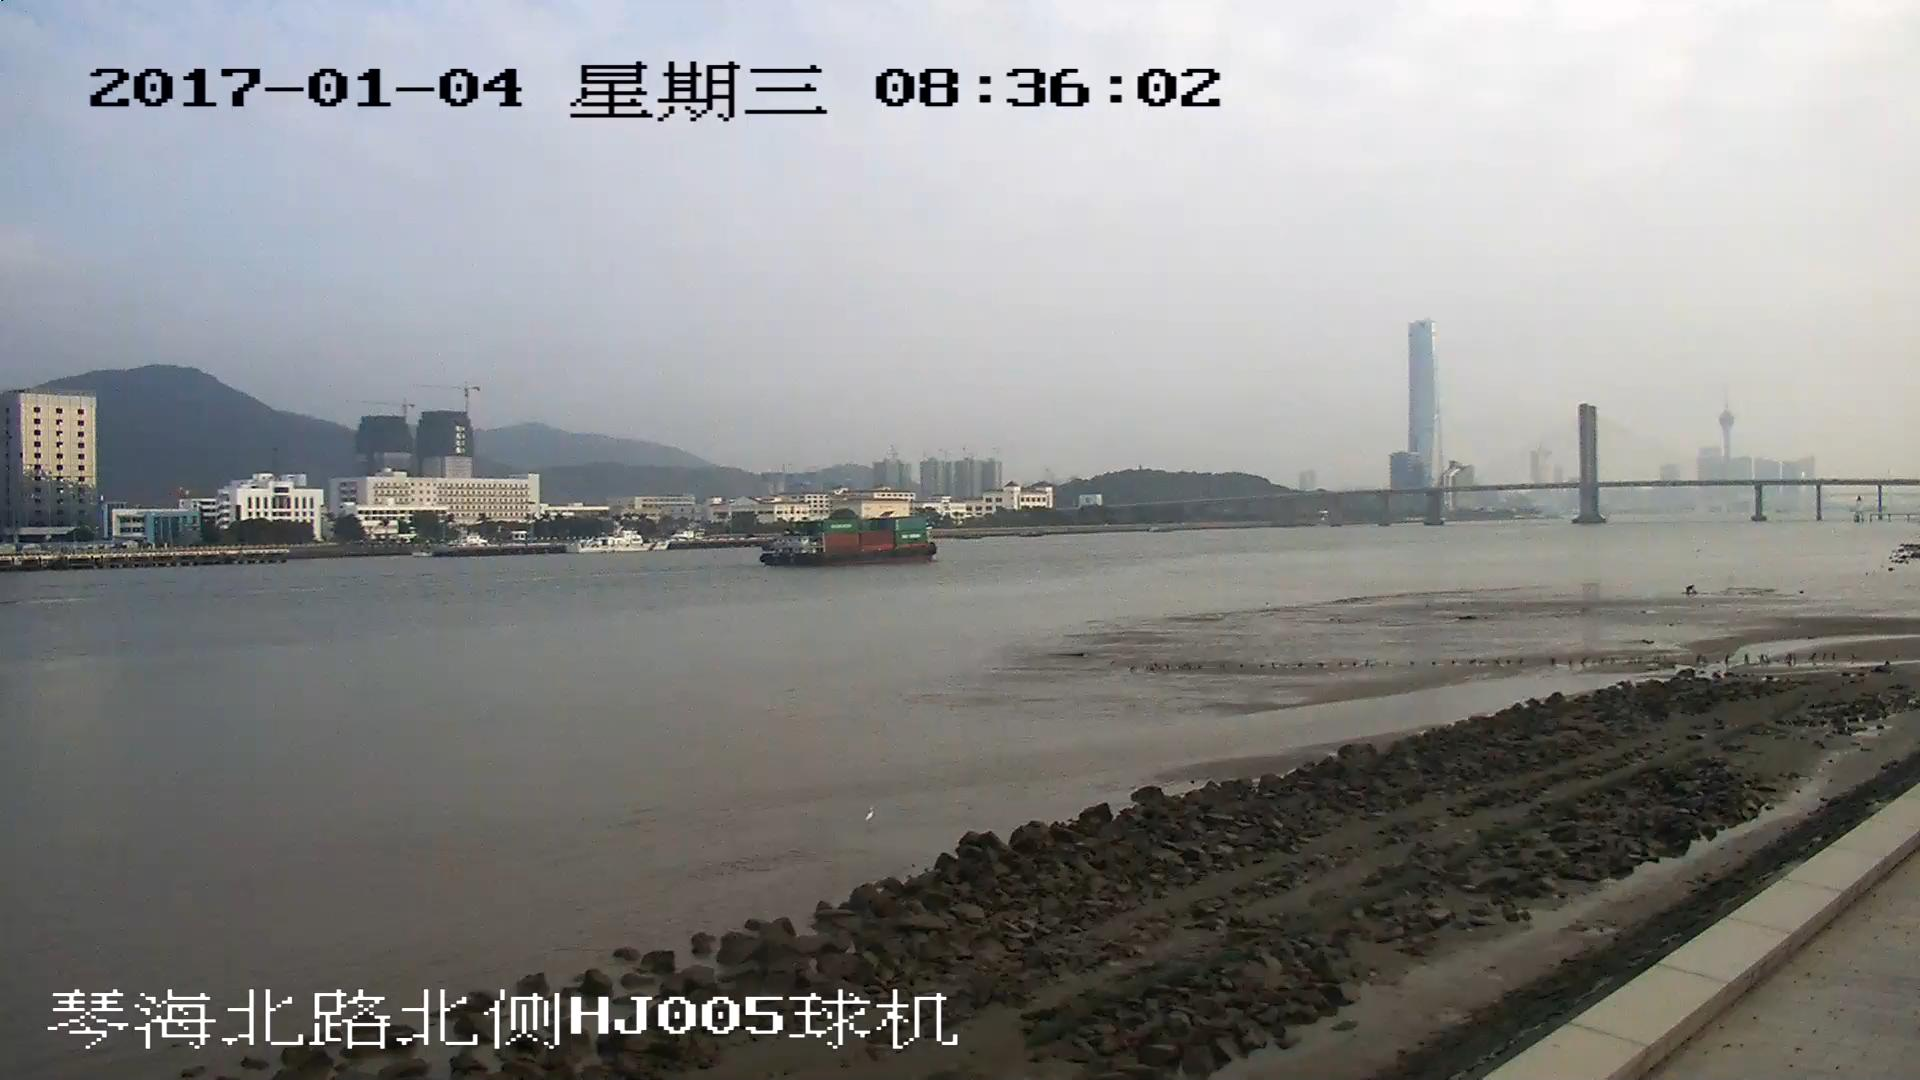container ship: (761, 519, 938, 566)
